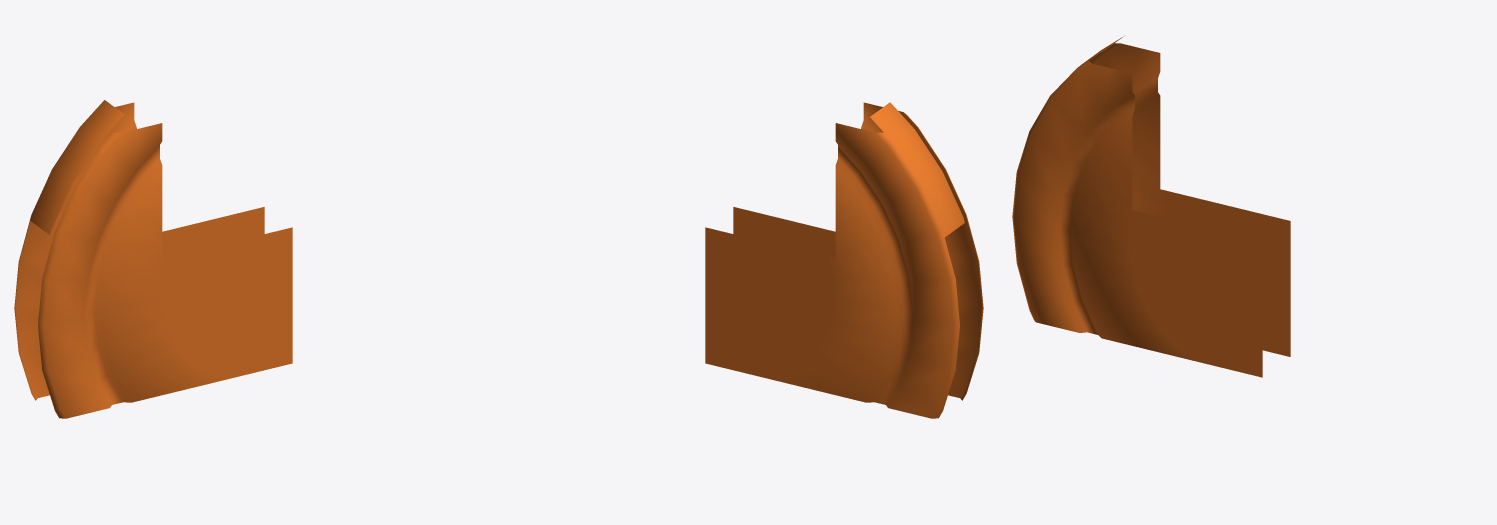
File: GoldCoin.fbx
3 views of the same model, side by side, from view 1: azimuth 30°, elevation 25°; view 2: azimuth 150°, elevation 25°; view 3: azimuth 330°, elevation 25° (orthographic).
Visible parts, largest first — view 1: GoldCoin; view 2: GoldCoin; view 3: GoldCoin.
Boxes of the visible parts, <box> form: GoldCoin: <box>14,100,292,418</box>; GoldCoin: <box>705,102,983,418</box>; GoldCoin: <box>1012,36,1290,377</box>.
Size of the model in its own units: 0.5 by 0.5 by 0.0544.
